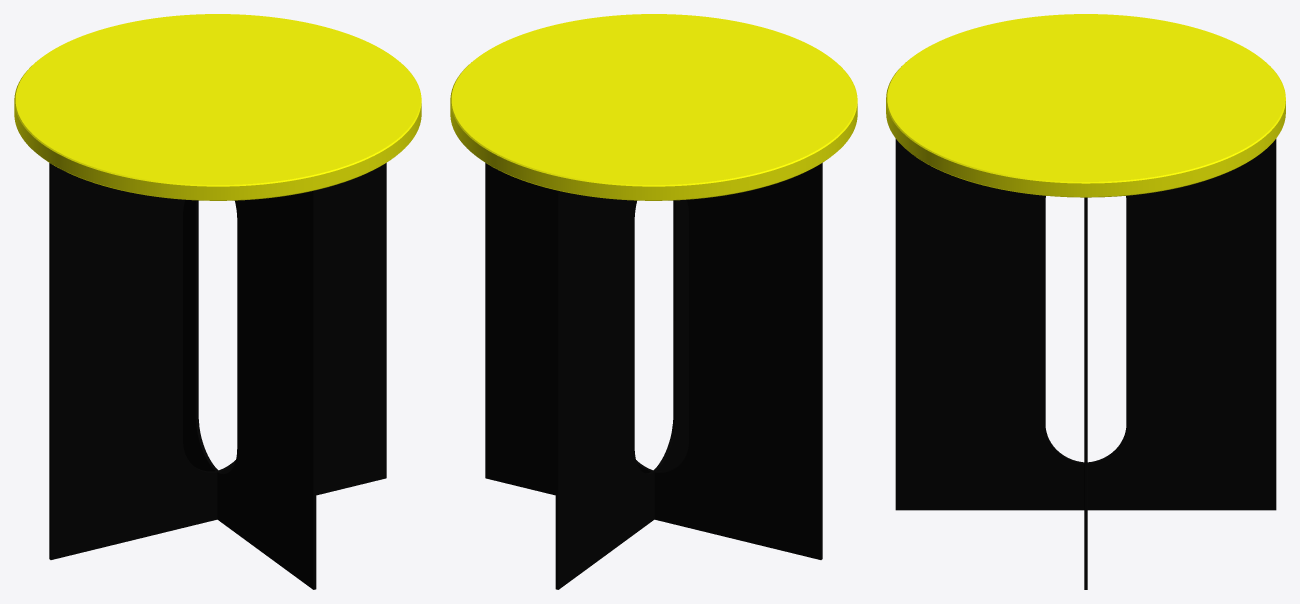
File: designconnected-androgyne-side-table-9225.optimized.glb
The picture shows the model from 3 angles, left to right: view 1: azimuth 30°, elevation 25°; view 2: azimuth 150°, elevation 25°; view 3: azimuth 270°, elevation 25°; orthographic projection.
Visible parts, largest first — view 1: Menu_Androgyne_Side_Table_mat1; view 2: Menu_Androgyne_Side_Table_mat1; view 3: Menu_Androgyne_Side_Table_mat1.
Boxes of the visible parts, x1,y1,x2,y2 form: Menu_Androgyne_Side_Table_mat1: [14, 14, 421, 589]; Menu_Androgyne_Side_Table_mat1: [450, 14, 857, 589]; Menu_Androgyne_Side_Table_mat1: [886, 14, 1285, 589].
Size of the model in its own units: 0.42 by 0.477 by 0.42.
